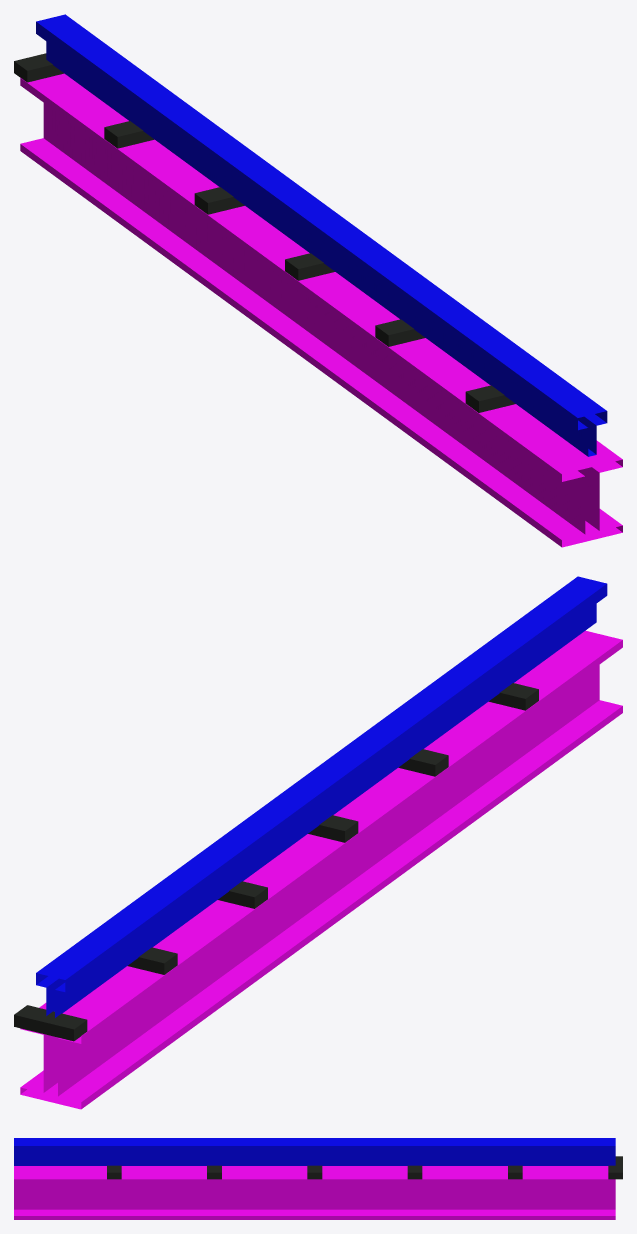
Rendered from inverted_train_rail_mockup.fbx.
The picture shows the model from 3 angles, top to bottom: view 1: azimuth 30°, elevation 25°; view 2: azimuth 150°, elevation 25°; view 3: azimuth 270°, elevation 25°; orthographic projection. The views are drawn at different scales.
Visible parts, largest first — view 1: group1_pCube78; view 2: group1_pCube78; view 3: group1_pCube78.
Boxes of the visible parts, bbox=[...] form: group1_pCube78: bbox=[14, 14, 622, 547]; group1_pCube78: bbox=[14, 576, 622, 1109]; group1_pCube78: bbox=[14, 1138, 622, 1219].
Size of the model in its own units: 0.0649 by 0.1278 by 1.01.
